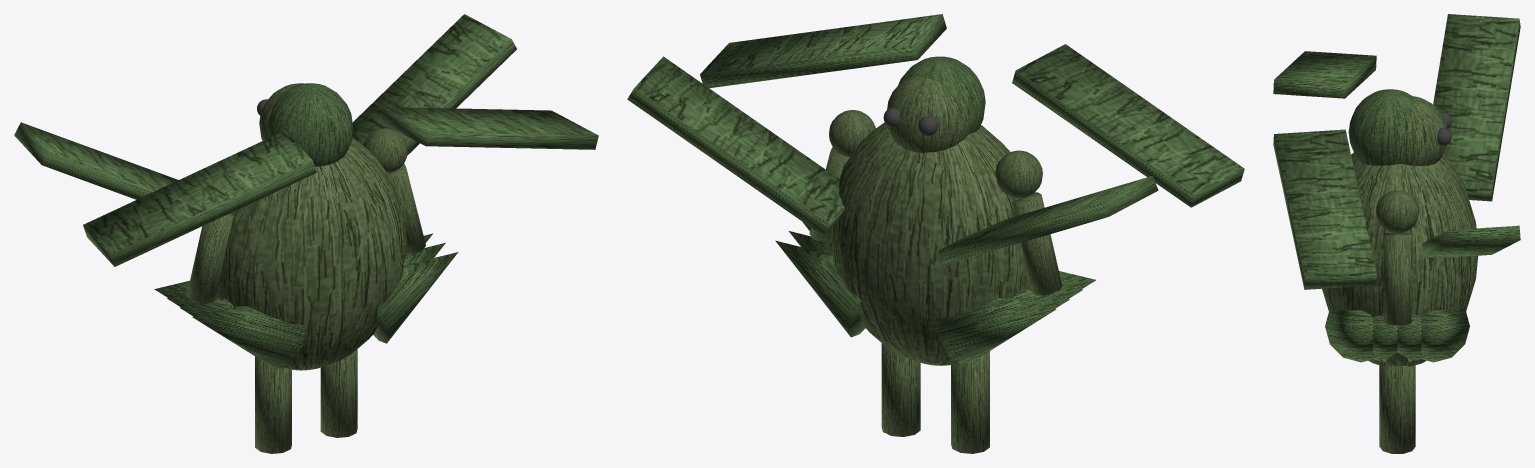
The model's file is sprite.glb.
3 views of the same model, side by side, from view 1: azimuth 30°, elevation 25°; view 2: azimuth 150°, elevation 25°; view 3: azimuth 270°, elevation 25° (orthographic). The views are drawn at different scales.
Parts seen in each view (by area): view 1: Torso, DragonflyWing.001, DragonflyWing.002, DragonflyWing.003, HairStrands, DragonflyWing, LeafSkirt, Leg, Leg.001, LeafSkirt.004, Arm, Arm.001 (+1 smaller); view 2: Torso, DragonflyWing.001, DragonflyWing.002, DragonflyWing.003, DragonflyWing, Head, LeafSkirt.003, Leg, Leg.001, LeafSkirt.007, HairStrands, Arm (+3 smaller); view 3: Torso, DragonflyWing.003, DragonflyWing, HairStrands, DragonflyWing.001, Leg.001, Arm.001, DragonflyWing.002, Head, LeafSkirt.007, LeafSkirt.004, ShoulderJoint.001 (+2 smaller).
Part boxes in pixels (x1=…): Torso: x1=217, y1=138, x2=406, y2=370; DragonflyWing.001: x1=83, y1=130, x2=316, y2=266; DragonflyWing.002: x1=352, y1=14, x2=516, y2=155; DragonflyWing.003: x1=378, y1=107, x2=598, y2=149; HairStrands: x1=267, y1=83, x2=353, y2=166; DragonflyWing: x1=14, y1=122, x2=178, y2=199; LeafSkirt: x1=192, y1=306, x2=305, y2=368; Leg: x1=255, y1=356, x2=291, y2=453; Leg.001: x1=320, y1=349, x2=357, y2=437; LeafSkirt.004: x1=373, y1=252, x2=458, y2=343; Arm: x1=186, y1=213, x2=233, y2=303; Arm.001: x1=388, y1=163, x2=425, y2=253; Torso: x1=830, y1=122, x2=1030, y2=365; DragonflyWing.001: x1=1012, y1=44, x2=1244, y2=207; DragonflyWing.002: x1=627, y1=56, x2=844, y2=235; DragonflyWing.003: x1=700, y1=14, x2=946, y2=88; DragonflyWing: x1=938, y1=176, x2=1158, y2=265; Head: x1=887, y1=76, x2=969, y2=152; LeafSkirt.003: x1=936, y1=297, x2=1056, y2=363; Leg: x1=951, y1=351, x2=989, y2=453; Leg.001: x1=881, y1=343, x2=920, y2=436; LeafSkirt.007: x1=775, y1=240, x2=865, y2=337; HairStrands: x1=898, y1=56, x2=985, y2=134; Arm: x1=1012, y1=192, x2=1062, y2=295; Torso: x1=1322, y1=152, x2=1478, y2=366; DragonflyWing.003: x1=1273, y1=129, x2=1376, y2=289; DragonflyWing: x1=1433, y1=14, x2=1520, y2=201; HairStrands: x1=1348, y1=89, x2=1413, y2=165; DragonflyWing.001: x1=1273, y1=51, x2=1376, y2=98; Leg.001: x1=1379, y1=365, x2=1415, y2=453; Arm.001: x1=1383, y1=233, x2=1411, y2=325; DragonflyWing.002: x1=1422, y1=225, x2=1520, y2=257; Head: x1=1401, y1=96, x2=1447, y2=165; LeafSkirt.007: x1=1421, y1=307, x2=1469, y2=362; LeafSkirt.004: x1=1325, y1=307, x2=1373, y2=362; ShoulderJoint.001: x1=1376, y1=190, x2=1419, y2=233.
Bounding box in the file's own units: 0.4465 × 0.3092 × 0.2047.
4 materials, 3 textured.
